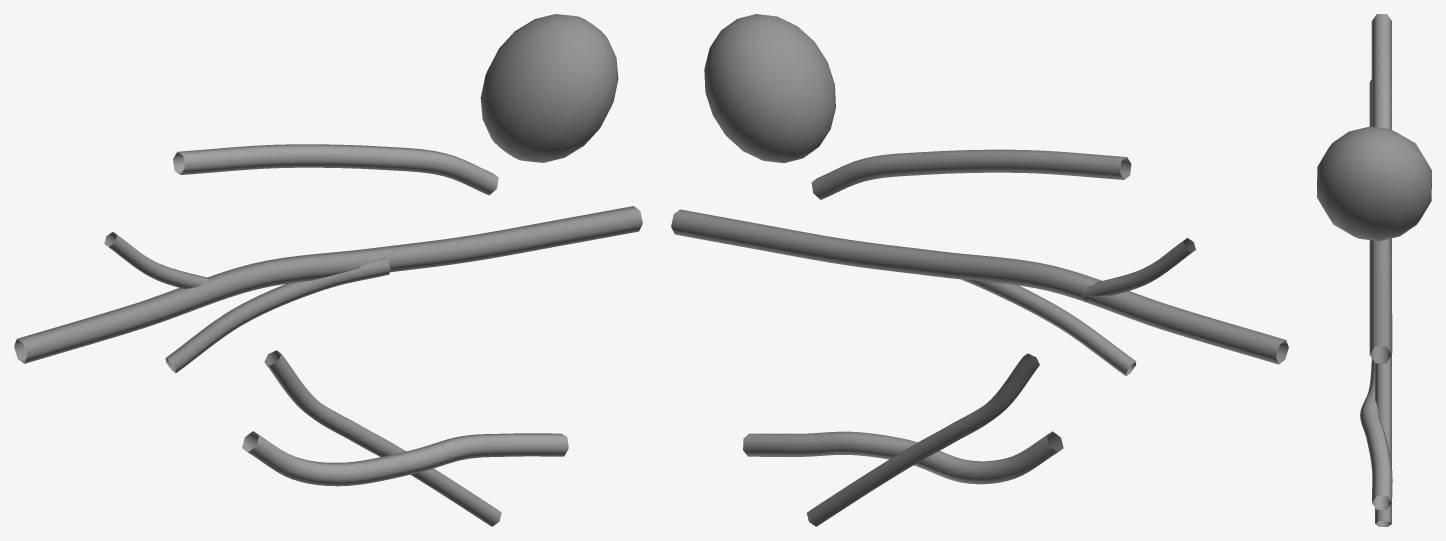
The picture shows the model from 3 angles, left to right: view 1: azimuth 30°, elevation 25°; view 2: azimuth 150°, elevation 25°; view 3: azimuth 270°, elevation 25°; orthographic projection. The views are drawn at different scales.
Size of the model in its own units: 1.14 by 0.8729 by 0.2151.
